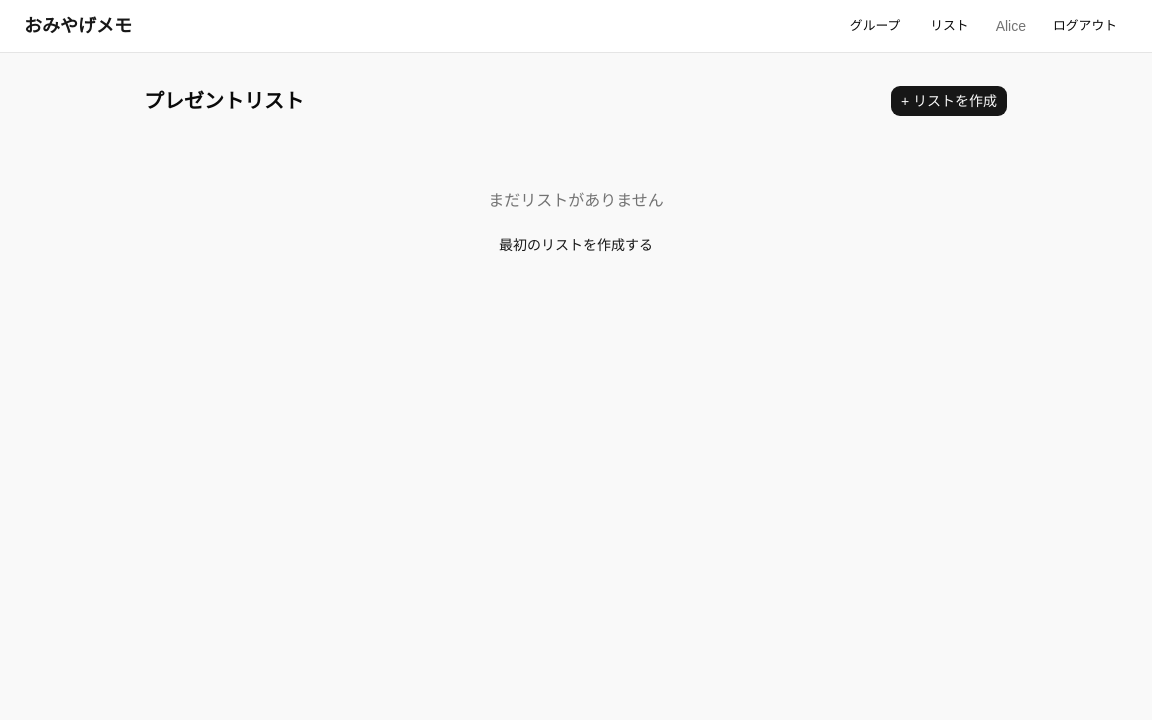
it: GiftListPage › 「リストを作成」ボタンを押すとモーダルが開く
Expected: the text "まだリストがありません" is shown, [488, 192, 664, 209]
Step 1. Click the button "+ リストを作成" → [949, 101], box [890, 85, 1008, 117]
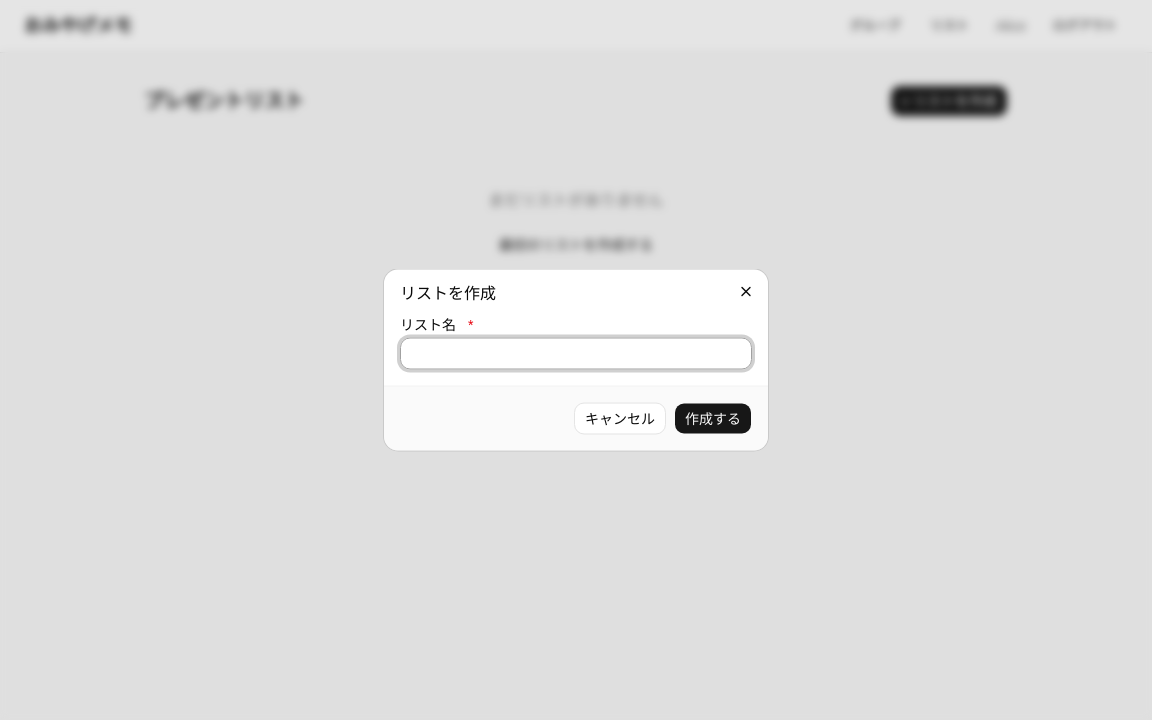
Now the heading "リストを作成" is shown, box [400, 284, 496, 302]
